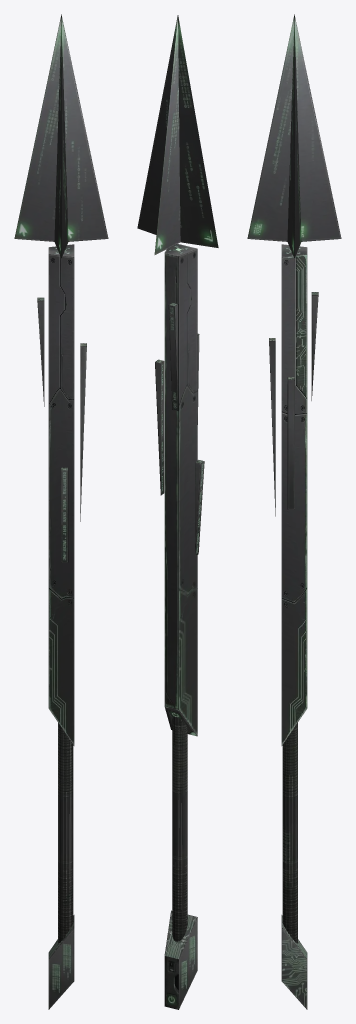
The model's file is tampered_lance.glb.
3 renders of one model, left to right at view 1: azimuth 90°, elevation 25°; view 2: azimuth 150°, elevation 25°; view 3: azimuth 270°, elevation 25°, orthographic.
Parts seen in each view (by area): view 1: tampered_lance; view 2: tampered_lance; view 3: tampered_lance.
Part boxes in pixels (x1,y1,x2,y2): tampered_lance: (14, 14, 108, 1009); tampered_lance: (137, 15, 218, 1009); tampered_lance: (247, 14, 341, 1009).
Size of the model in its own units: 0.1472 by 1.71 by 0.1472.
Materials: 1 (1 with a texture image).
